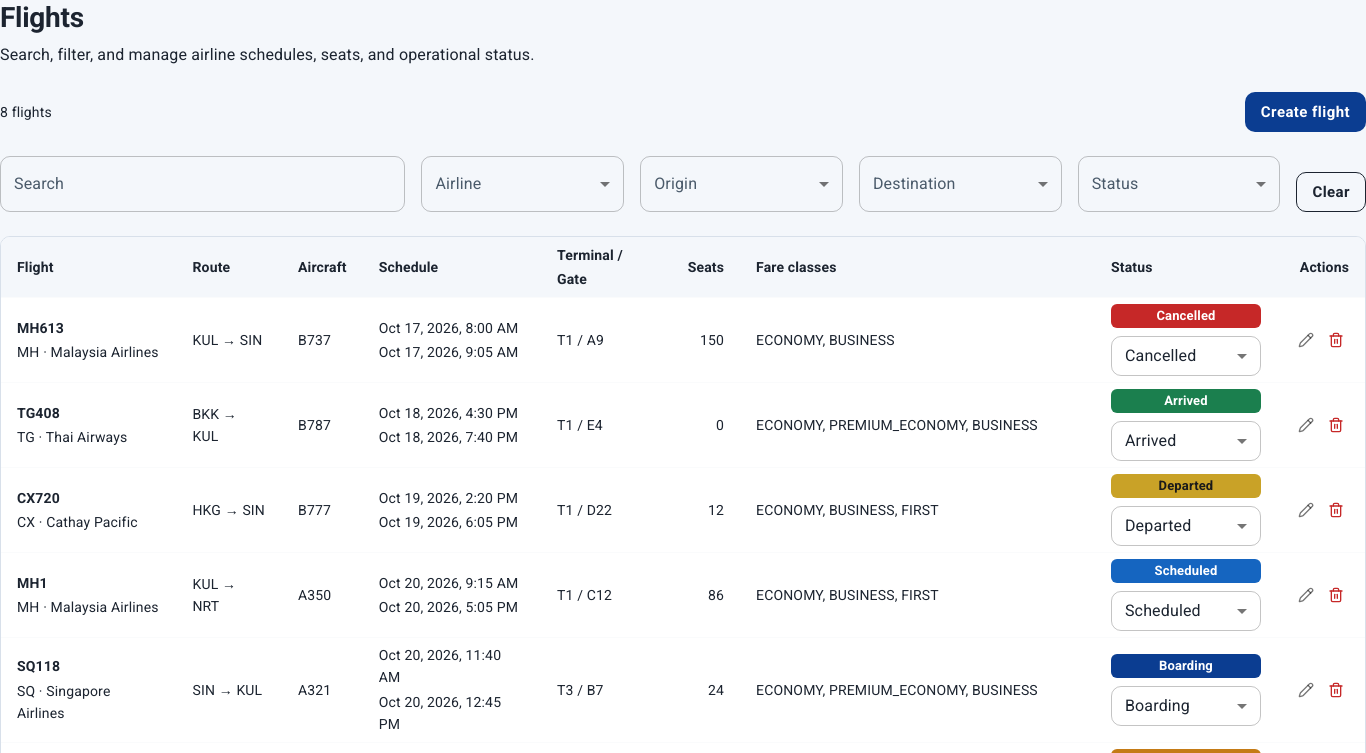
Scenario: AdminFlightsPage › updates status and deletes a flight
This screenshot has width=1366, height=753.
Expected: the text "MH1" is shown, [17, 575, 48, 591]
What coordinates should you click on to do the following:
click the dropdown named "Update status"
I would click on:
 (1163, 611)
Its box is [1125, 602, 1201, 620].
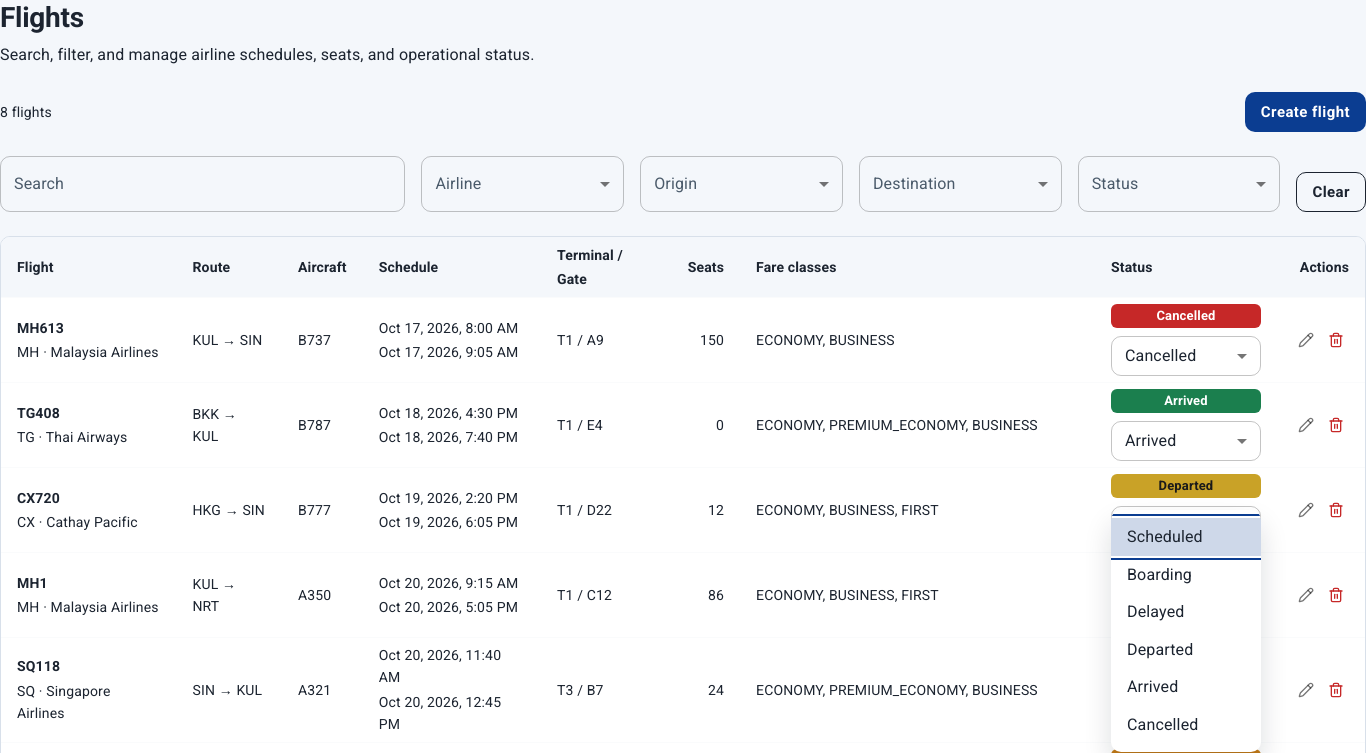
What coordinates should you click on to do the following:
click the option "Delayed"
I would click on:
 (1156, 612)
Its box is [1127, 602, 1184, 621].
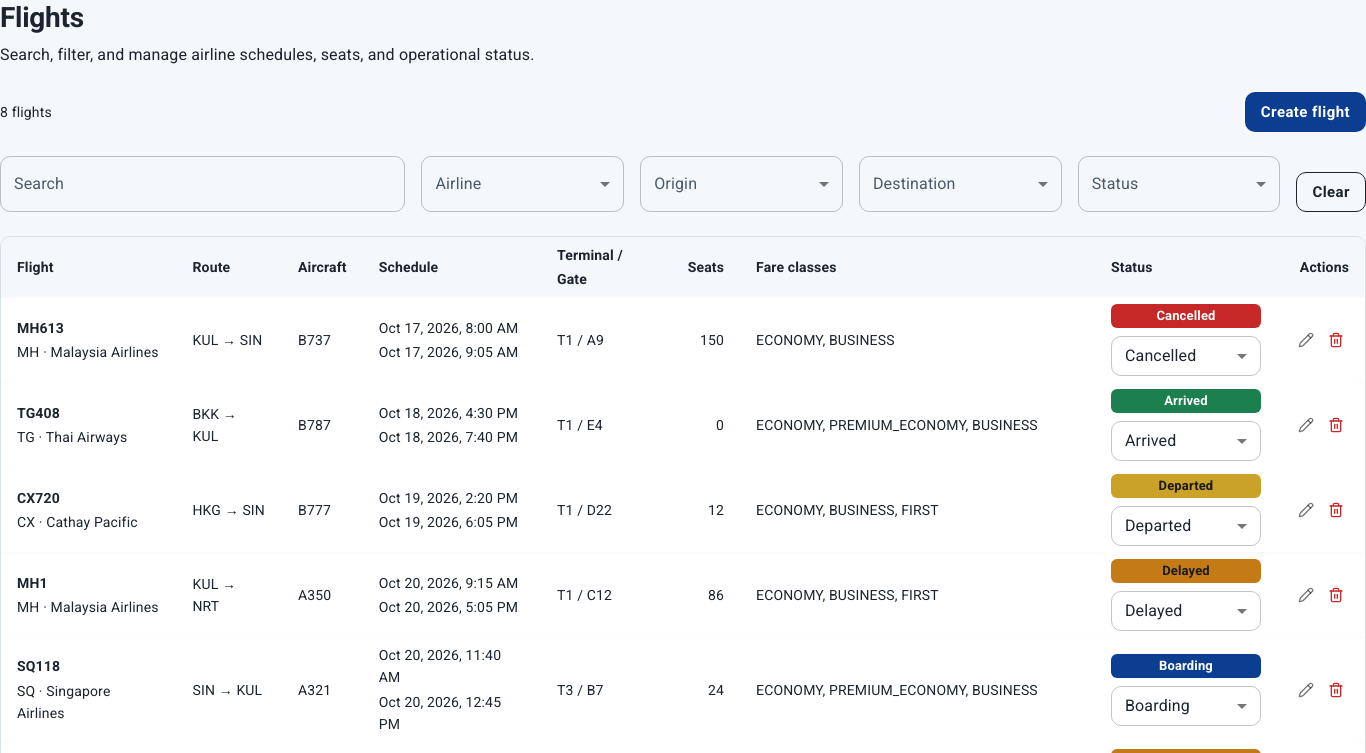
What coordinates should you click on to do the following:
click the button named "Delete MH1"
I would click on:
 (1336, 595)
Its box is [1323, 582, 1349, 608].
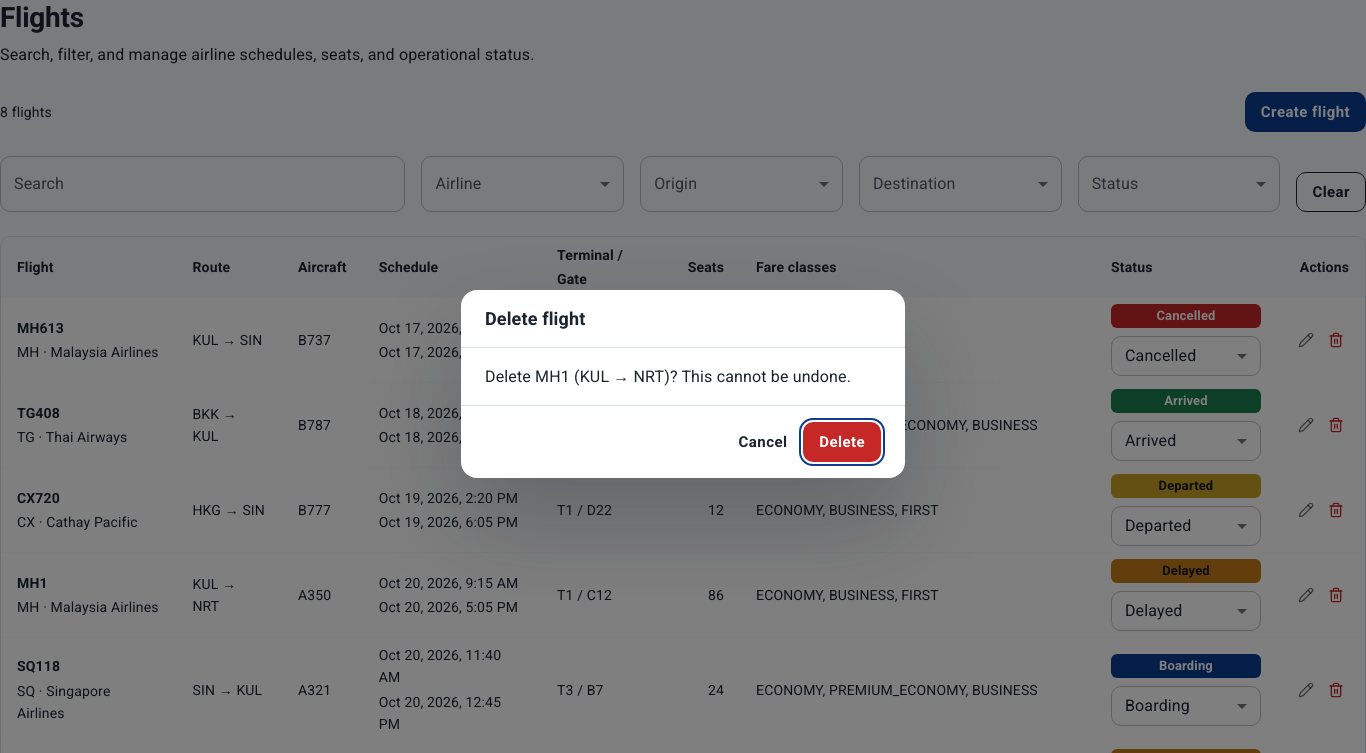
What coordinates should you click on to do the following:
click the button "Delete"
I would click on:
 (842, 442)
Its box is [803, 422, 881, 462].
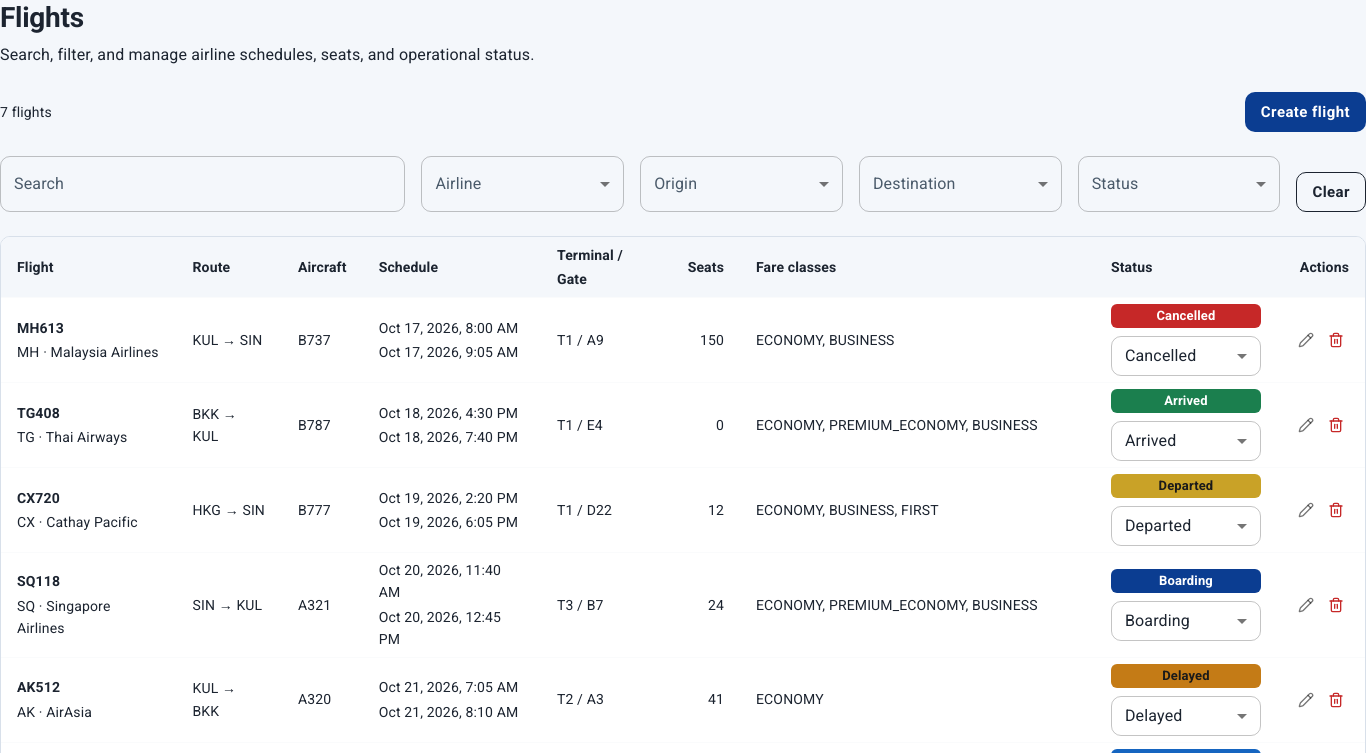
Now the text "MH1" is gone
